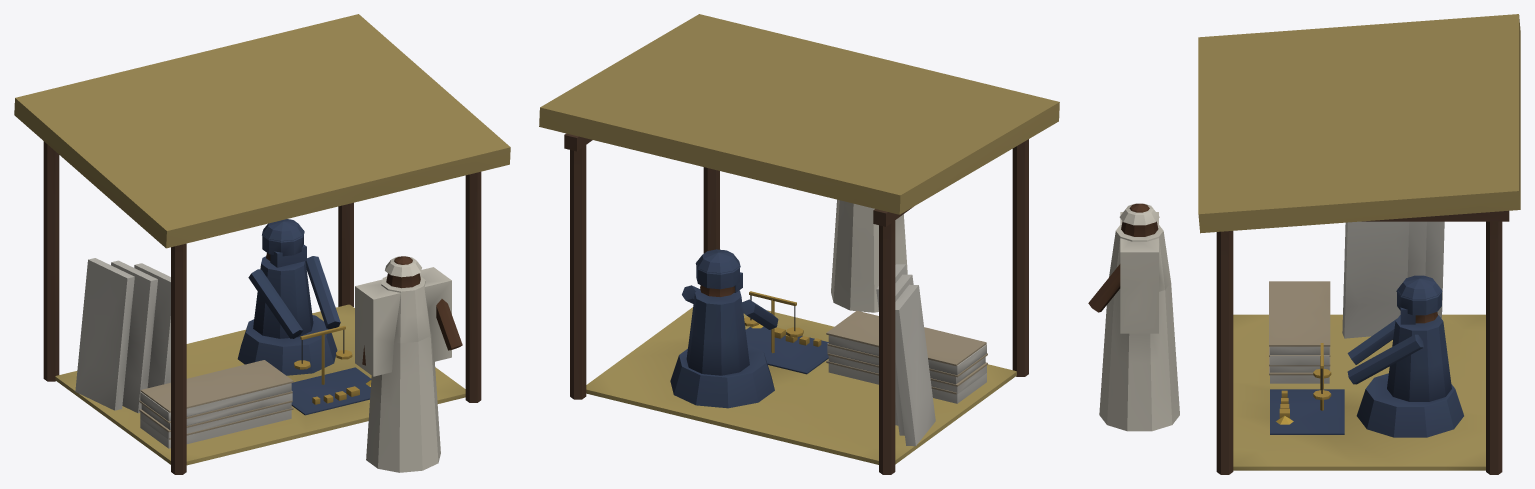
Rendered from stall.glb.
3 renders of one model, left to right at view 1: azimuth 30°, elevation 25°; view 2: azimuth 150°, elevation 25°; view 3: azimuth 270°, elevation 25°, orthographic. The views are drawn at different scales.
Parts seen in each view (by area): view 1: base; view 2: base; view 3: base.
Part boxes in pixels (<box>): base: <box>14,14,510,474</box>; base: <box>539,14,1059,474</box>; base: <box>1088,14,1520,474</box>.
Bounding box in the file's own units: 2.8 × 2.17 × 2.89.
